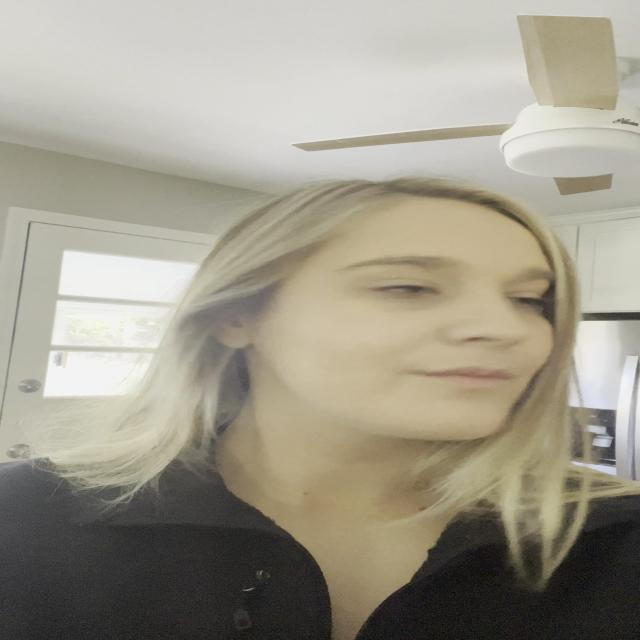no-helmet: (248, 180, 592, 442)
